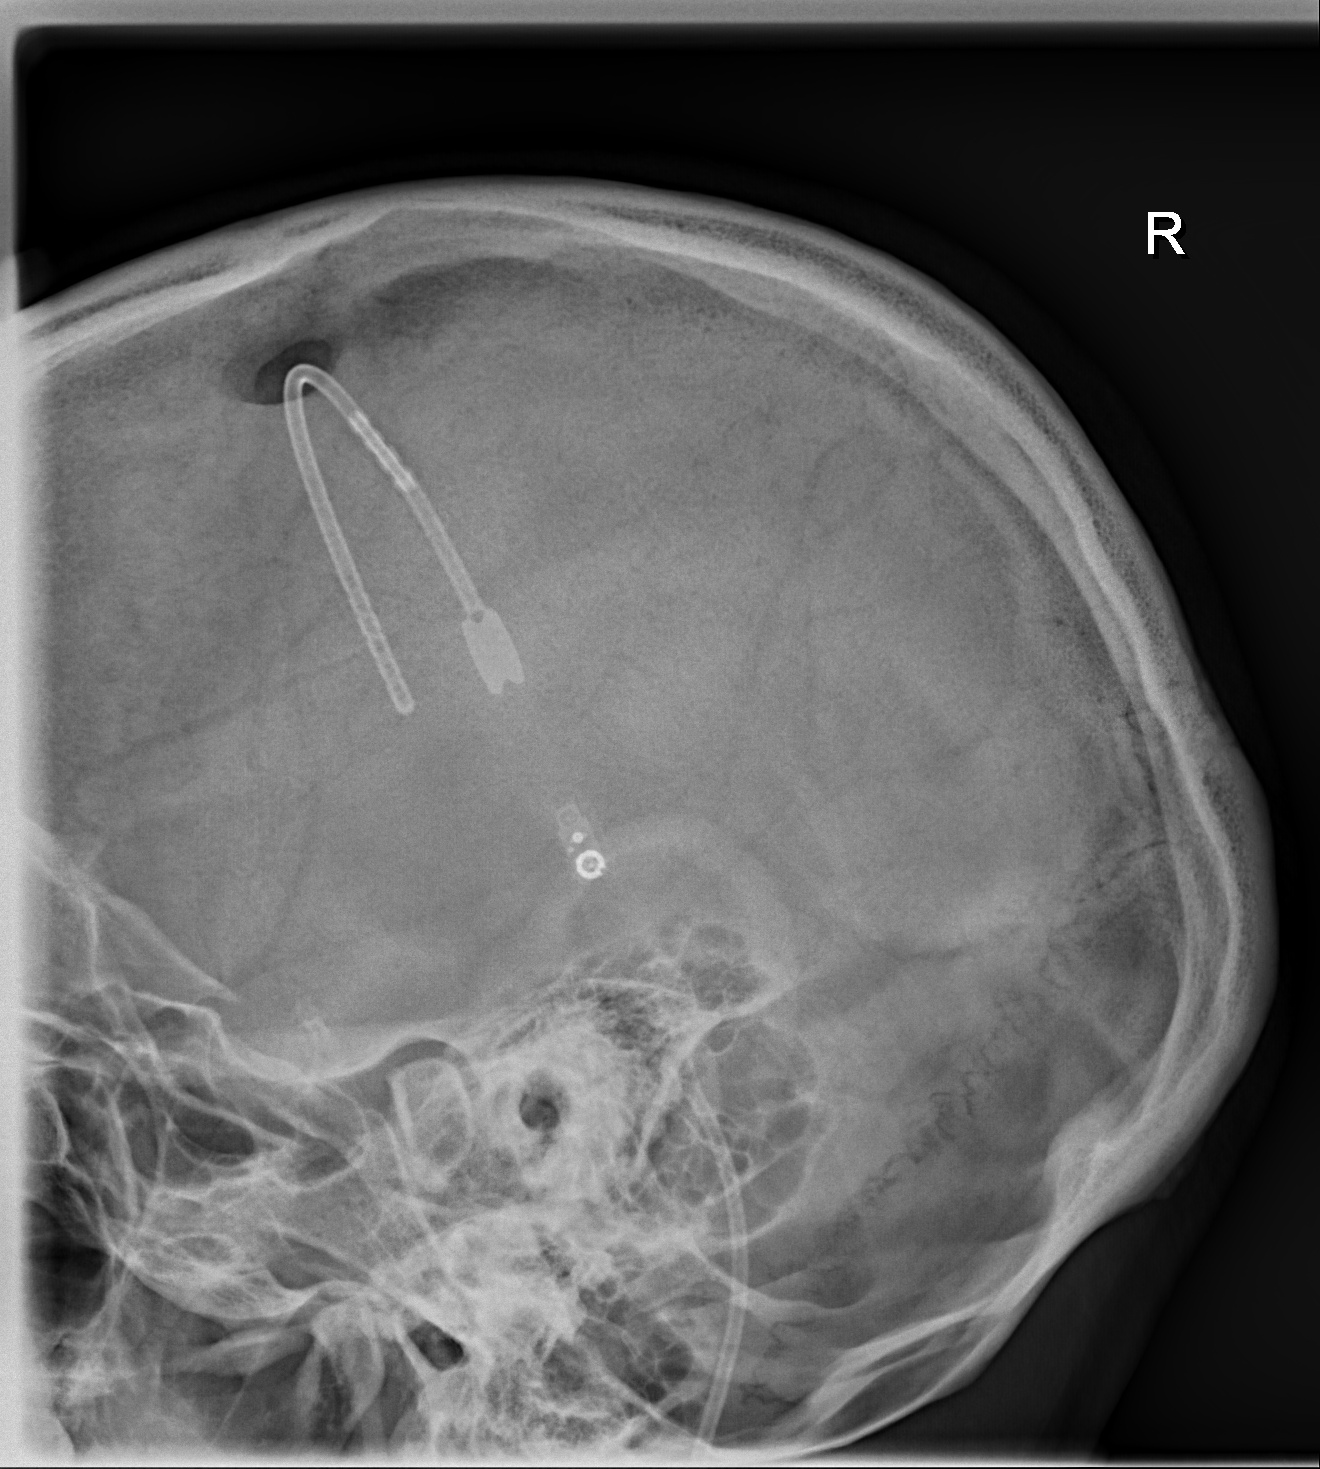Codman Hakim: (553, 813, 615, 903)
